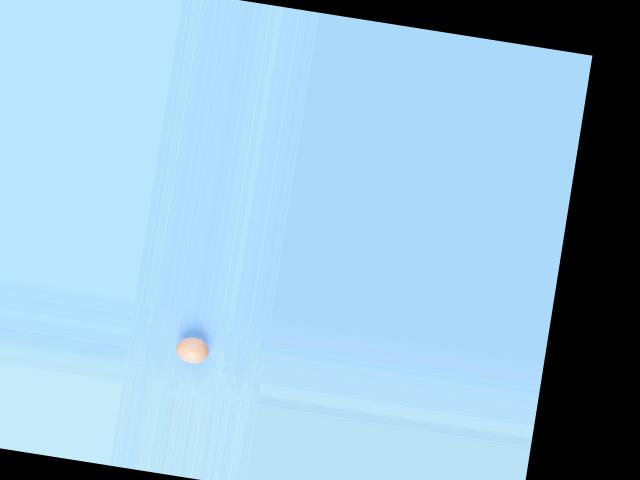egg: (174, 333, 210, 365)
